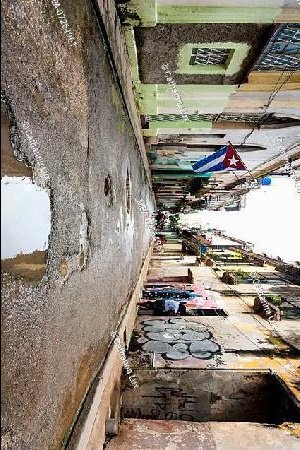pothole: (3, 83, 56, 287), (57, 247, 94, 284), (77, 208, 94, 271), (102, 173, 115, 209), (125, 164, 133, 213)
